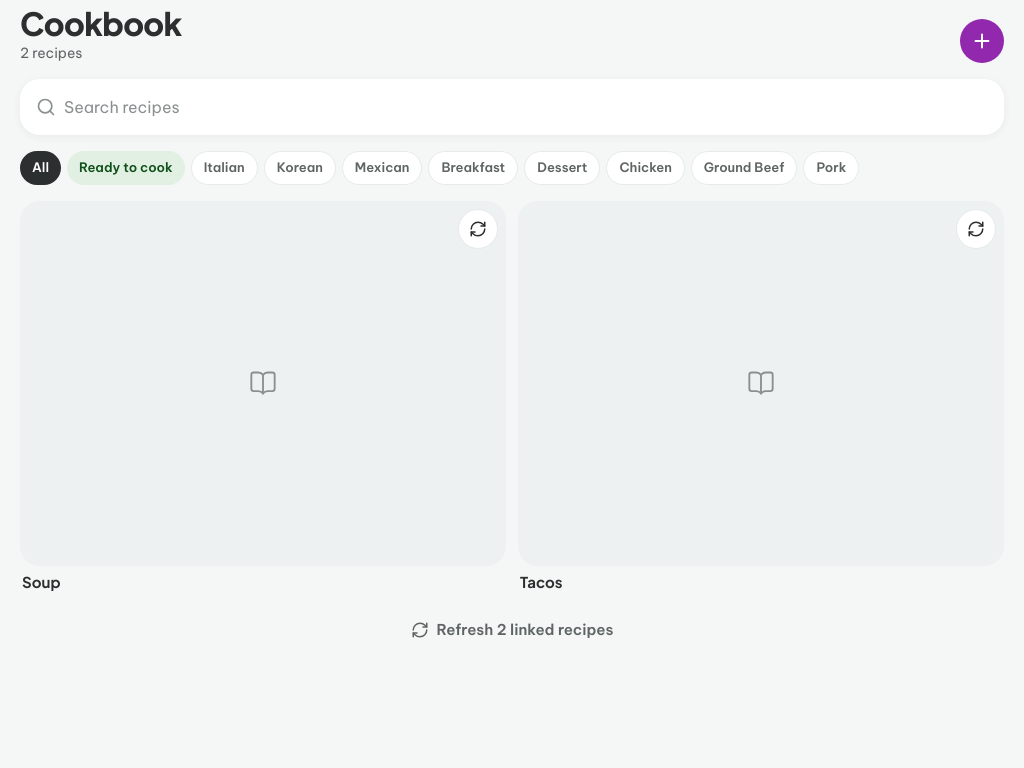
Scenario: CookbookPage bulk refresh › says all refreshed when none failed
The image size is (1024, 768).
Step 1. Click the button "Refresh 2 linked recipes" → (512, 630), box [20,608,1004,652]
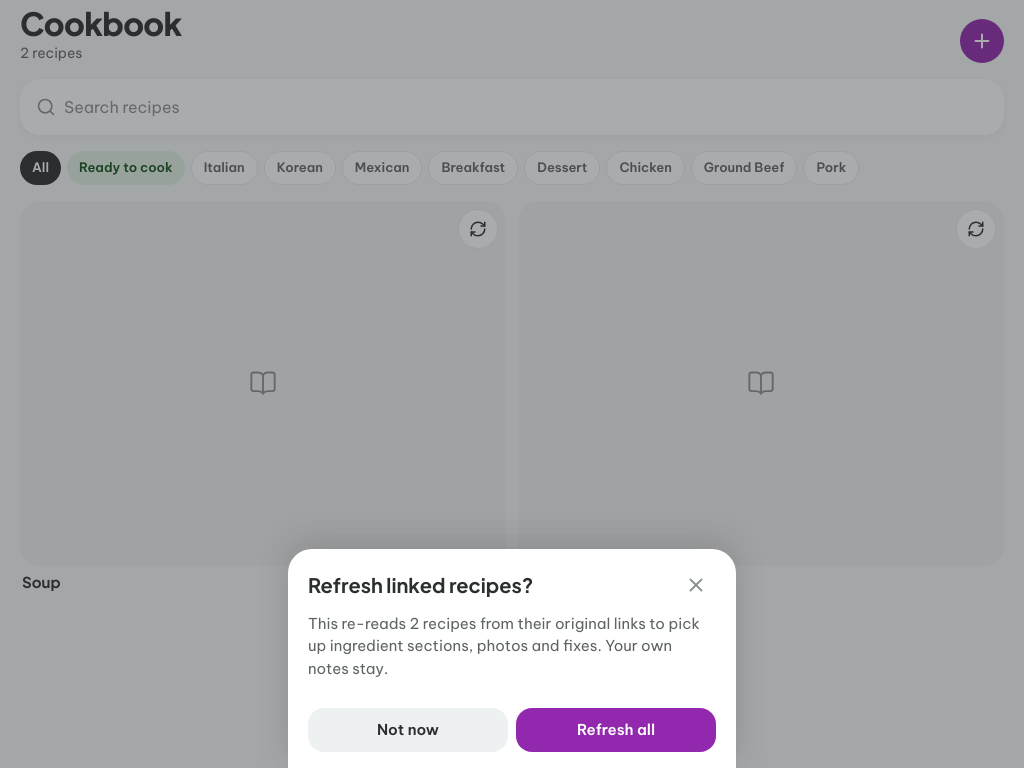
Step 2. Click the button "Refresh all" → (616, 730), box [516,708,716,752]
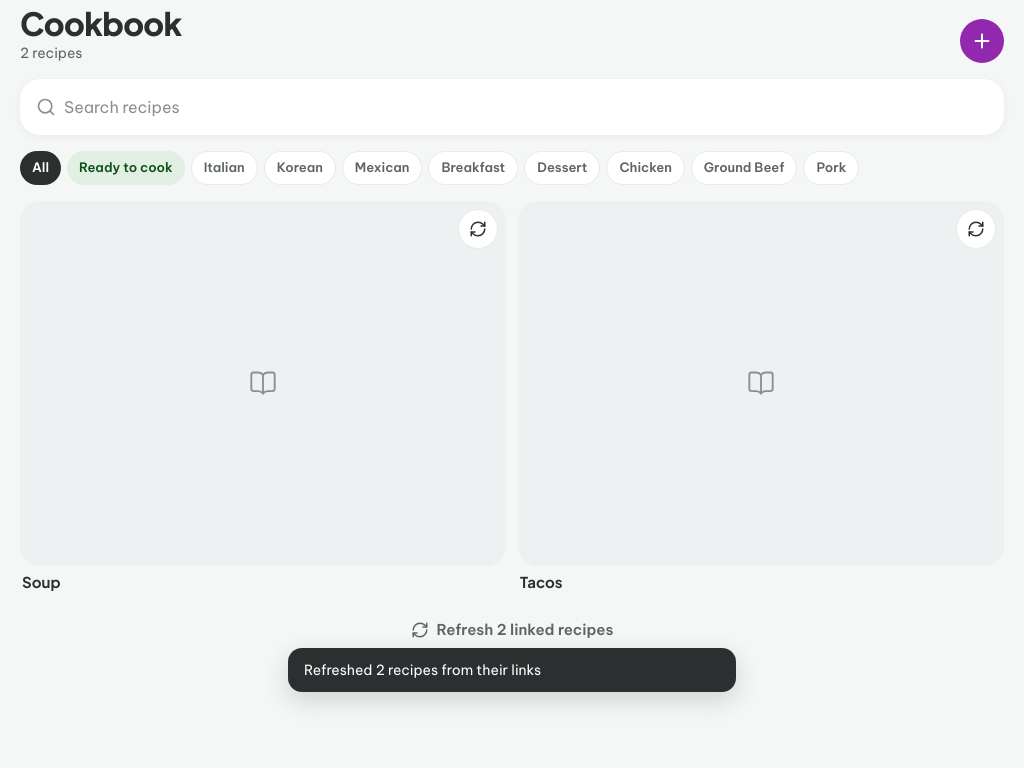
expect the text "Refreshed 2 recipes from their links" is shown: met, box [304,661,541,679]
